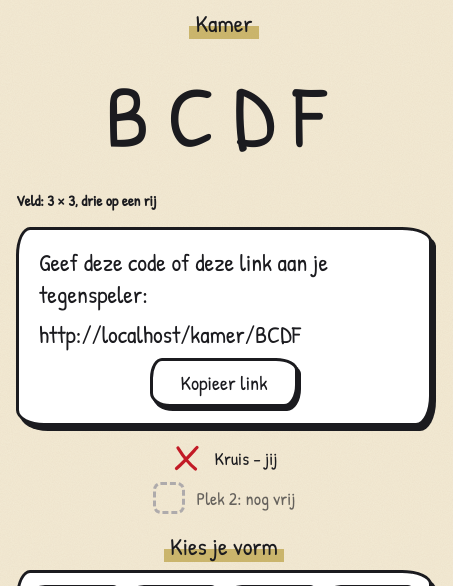
Test: RoomPage › while waiting for a second player › says so when copying does not work
What coordinates should you click on to do the following:
click the button "Kopieer link"
I would click on:
 (224, 382)
Its box is [150,358,298,407].
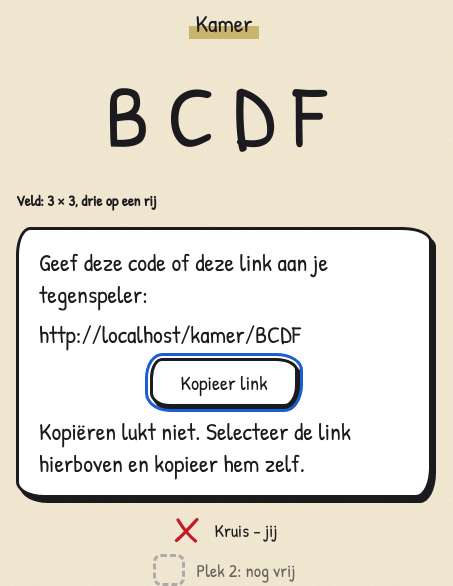
Expected: the text "Kopiëren lukt niet. Selecteer de link hierboven en kopieer hem zelf." is shown, [39,415,351,479]
